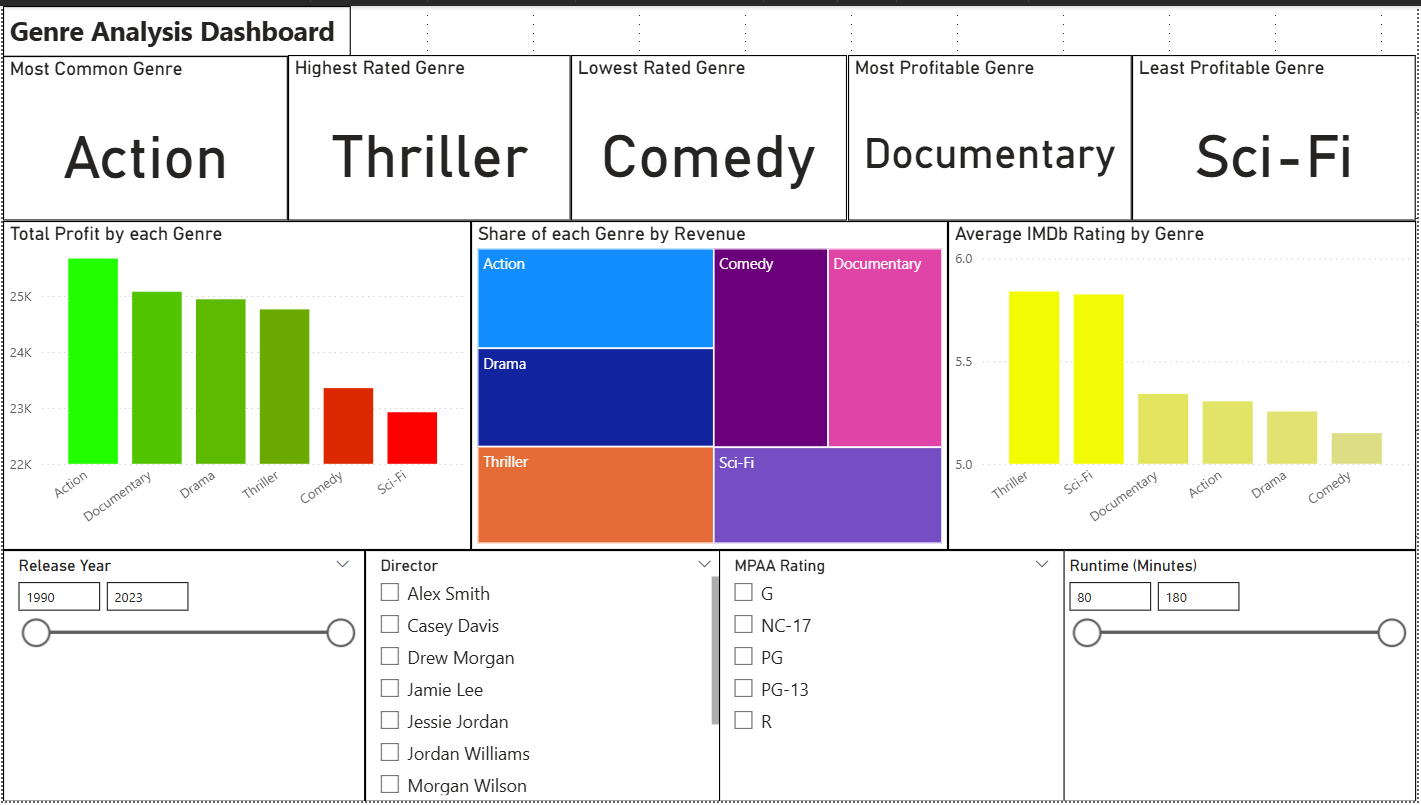

What the dashboard file says about the page in this screenshot:
{"tool":"powerbi","page":{"name":"Genre Analysis Dashboard","canvas":[1280,720],"ordinal":16},"visuals":[{"type":"textbox","box":[0,0,314.7,45.5],"z":0},{"type":"card","title":"Most Common Genre","fields":{"Values":["Production Details.Most Common Genre"]},"box":[0,45.5,258.3,149.4],"z":1000},{"type":"card","title":"Highest Rated Genre","fields":{"Values":["Revenue & Ratings.Highest Avg Rating Genre"]},"box":[258.3,44.5,256.3,150.4],"z":2000},{"type":"card","title":"Lowest Rated Genre","fields":{"Values":["Revenue & Ratings.Lowest Avg Rating Genre"]},"box":[514.6,44.5,250.4,150.4],"z":3000},{"type":"card","title":"Most Profitable Genre","fields":{"Values":["Production Details.Most Profitable Genre"]},"box":[765,44.5,257.3,150.4],"z":4000},{"type":"card","title":"Least Profitable Genre","fields":{"Values":["Production Details.Least Profitable Genre"]},"box":[1022.4,44.5,257.3,150.4],"z":5000},{"type":"columnChart","title":"Total Profit by each Genre","fields":{"Category":["Production Details.Genre"],"Y":["Revenue & Ratings.Profit (M)"]},"box":[0,195,423.6,297.9],"z":6000},{"type":"columnChart","title":"Average IMDb Rating by Genre","fields":{"Category":["Production Details.Genre"],"Y":["Revenue & Ratings.IMDb Rating"]},"box":[856.1,195,423.6,297.9],"z":7000},{"type":"treemap","title":"Share of each Genre by Revenue","fields":{"Group":["Production Details.Genre"],"Values":["Revenue & Ratings.Worldwide Gross (Millions)"]},"box":[423.6,195,432.5,297.9],"z":8000},{"type":"slicer","fields":{"Values":["Production Details.Release Year"]},"box":[0,492.9,327.6,227.6],"z":9000},{"type":"slicer","fields":{"Values":["Production Details.Runtime (Minutes)"]},"box":[952.1,492.9,327.6,227.6],"z":10000},{"type":"slicer","fields":{"Values":["Production Details.Director"]},"box":[327.6,492.9,327.6,227.6],"z":11000},{"type":"slicer","fields":{"Values":["Revenue & Ratings.MPAA Rating"]},"box":[648.2,492.9,312.7,227.6],"z":12000}]}

Visuals, with their boxes in screenshot pixels (x1, y1, x2, y2), scaled from the page's 1280x720 canvas onto the 1421x805 screenshot:
textbox: pyautogui.locateOnScreen(0, 0, 349, 51)
"Most Common Genre" card: pyautogui.locateOnScreen(0, 51, 287, 218)
"Highest Rated Genre" card: pyautogui.locateOnScreen(287, 50, 571, 218)
"Lowest Rated Genre" card: pyautogui.locateOnScreen(571, 50, 849, 218)
"Most Profitable Genre" card: pyautogui.locateOnScreen(849, 50, 1135, 218)
"Least Profitable Genre" card: pyautogui.locateOnScreen(1135, 50, 1420, 218)
"Total Profit by each Genre" columnChart: pyautogui.locateOnScreen(0, 218, 470, 551)
"Average IMDb Rating by Genre" columnChart: pyautogui.locateOnScreen(950, 218, 1420, 551)
"Share of each Genre by Revenue" treemap: pyautogui.locateOnScreen(470, 218, 950, 551)
slicer - Production Details.Release Year: pyautogui.locateOnScreen(0, 551, 364, 804)
slicer - Production Details.Runtime (Minutes): pyautogui.locateOnScreen(1057, 551, 1420, 804)
slicer - Production Details.Director: pyautogui.locateOnScreen(364, 551, 727, 804)
slicer - Revenue & Ratings.MPAA Rating: pyautogui.locateOnScreen(720, 551, 1067, 804)
